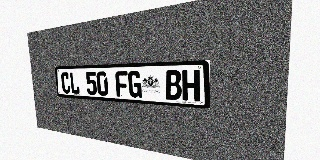0: (96, 71, 108, 96)
5: (86, 72, 97, 95)
B: (165, 70, 182, 100)
C: (61, 72, 71, 94)
F: (115, 71, 128, 97)
G: (128, 71, 142, 98)
H: (182, 70, 200, 101)
L: (69, 72, 80, 94)
